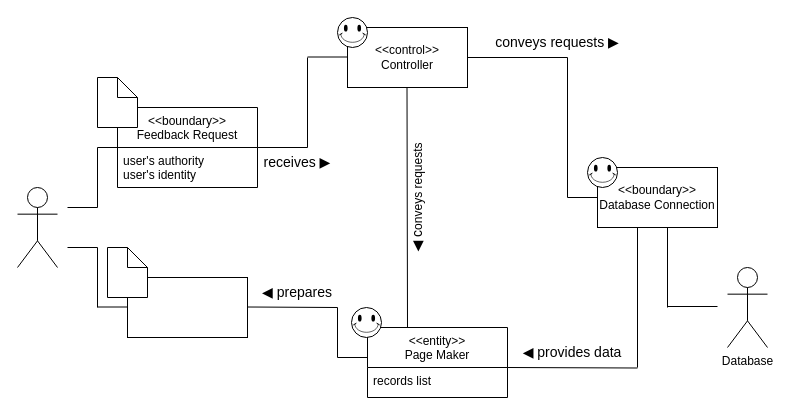
This 790x418 diagram has some shape labels left out. Each missing label, with the centre of its shape:
"<<boundary>> Interface Page" goes at point (187, 307).
"User" goes at point (37, 227).
